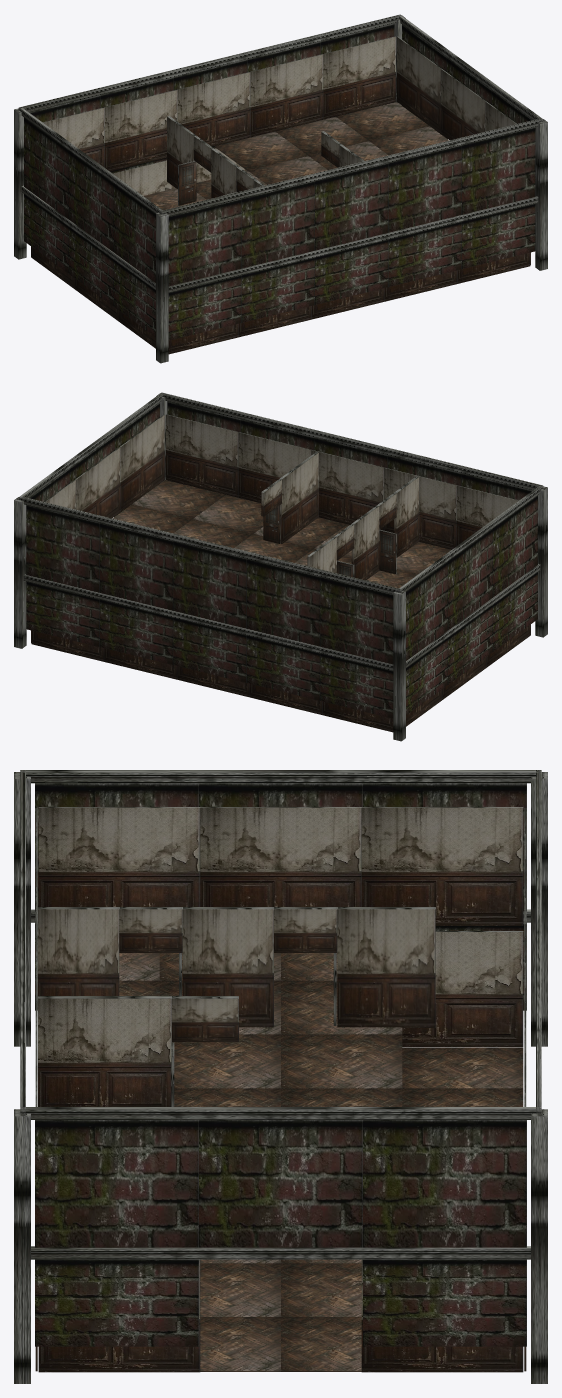
The model's file is sf_pro_dorm_arch_trim.glb.
The picture shows the model from 3 angles, top to bottom: view 1: azimuth 30°, elevation 25°; view 2: azimuth 150°, elevation 25°; view 3: azimuth 270°, elevation 25°; orthographic projection. The views are drawn at different scales.
Parts seen in each view (by area): view 1: ProDormArchitecturalShell; view 2: ProDormArchitecturalShell; view 3: ProDormArchitecturalShell.
Part boxes in pixels (<box>): ProDormArchitecturalShell: <box>14,14,547,363</box>; ProDormArchitecturalShell: <box>14,392,547,741</box>; ProDormArchitecturalShell: <box>14,770,547,1383</box>.
Size of the model in its own units: 23.2 by 8.54 by 15.2.
1 material, 1 textured.
